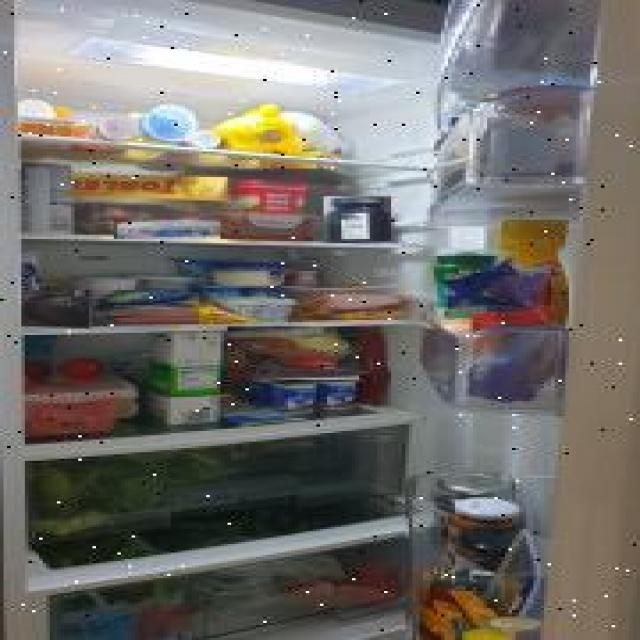avocado: (23, 291, 94, 330)
butter: (230, 178, 308, 217)
cheese: (114, 218, 220, 239)
grated_cheese: (228, 326, 359, 380)
marmelade: (324, 197, 391, 246)
mayonaise: (128, 104, 199, 146)
milk: (146, 325, 224, 426)
tomato: (53, 357, 103, 383)
yogurt: (274, 380, 359, 414)
